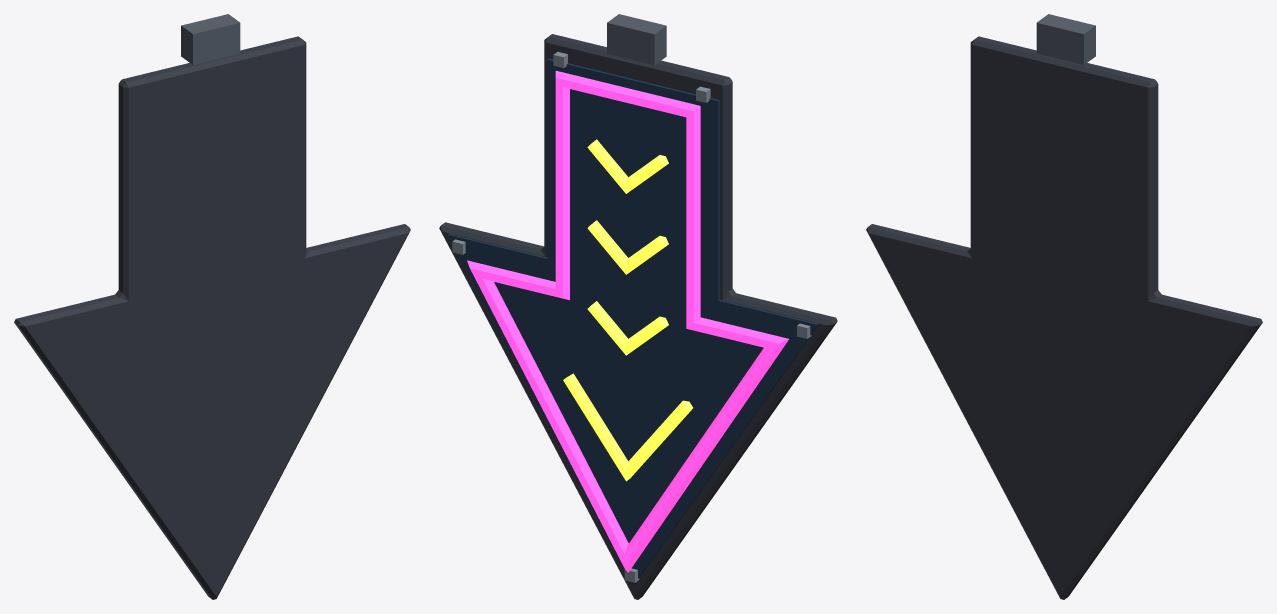
The model's file is neon_sign_a.glb.
3 renders of one model, left to right at view 1: azimuth 30°, elevation 25°; view 2: azimuth 150°, elevation 25°; view 3: azimuth 330°, elevation 25°, orthographic.
Parts seen in each view (by area): view 1: neon_sign_a; view 2: neon_sign_a; view 3: neon_sign_a.
Boxes of the visible parts, bbox=[...] form: neon_sign_a: bbox=[14, 14, 410, 599]; neon_sign_a: bbox=[439, 14, 837, 599]; neon_sign_a: bbox=[866, 14, 1262, 599].
Bounding box in the file's own units: 1.33 × 1.85 × 0.1058.
